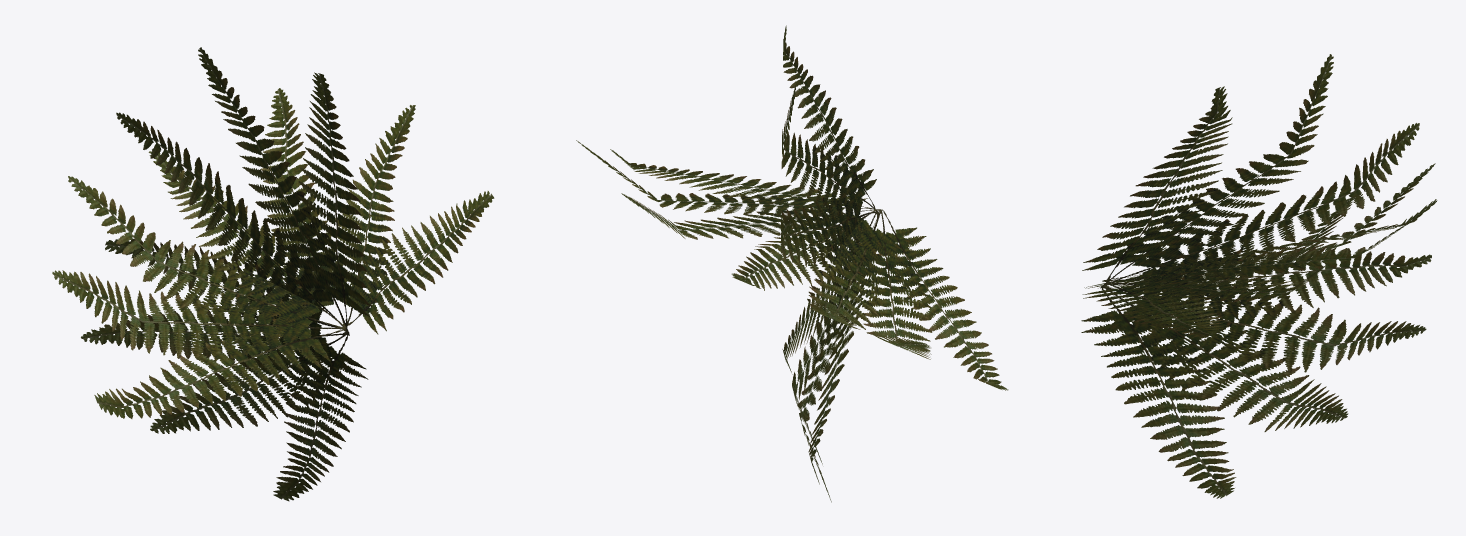
Rendered from MEP_Fern_06.fbx.
3 views of the same model, side by side, from view 1: azimuth 30°, elevation 25°; view 2: azimuth 150°, elevation 25°; view 3: azimuth 270°, elevation 25° (orthographic). The views are drawn at different scales.
Parts seen in each view (by area): view 1: MEP_Fern_06; view 2: MEP_Fern_06; view 3: MEP_Fern_06.
Part boxes in pixels (box(x1,y1,x2,y2)): MEP_Fern_06: box(52, 47, 494, 501); MEP_Fern_06: box(576, 25, 1008, 502); MEP_Fern_06: box(1081, 54, 1437, 498).
Size of the model in its own units: 1.64 by 1.8 by 1.39.
